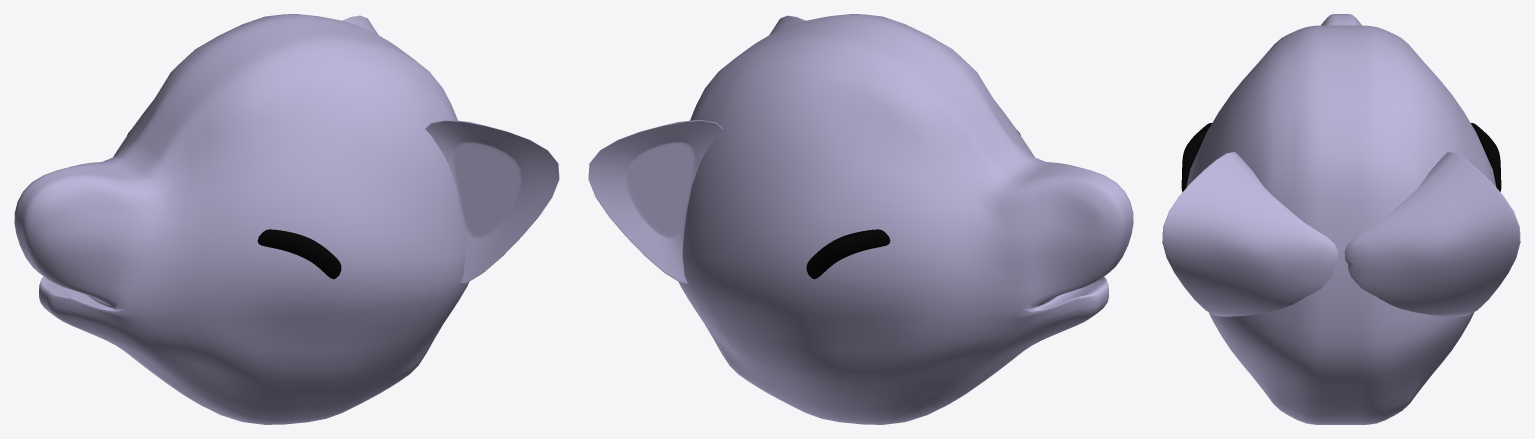
File: wolface-model.glb
The picture shows the model from 3 angles, left to right: view 1: azimuth 30°, elevation 25°; view 2: azimuth 150°, elevation 25°; view 3: azimuth 270°, elevation 25°; orthographic projection. The views are drawn at different scales.
Visible parts, largest first — view 1: Cube.006, Cube.007, Plan.006; view 2: Cube.006, Cube.007, Plan.006; view 3: Cube.006, Cube.007, Plan.006.
Part boxes in pixels (bbox=[...]): Cube.006: bbox=[14, 14, 468, 424]; Cube.007: bbox=[342, 15, 559, 284]; Plan.006: bbox=[127, 130, 341, 279]; Cube.006: bbox=[679, 14, 1133, 424]; Cube.007: bbox=[588, 15, 805, 284]; Plan.006: bbox=[806, 130, 1020, 279]; Cube.006: bbox=[1186, 14, 1496, 424]; Cube.007: bbox=[1162, 151, 1520, 316]; Plan.006: bbox=[1181, 123, 1501, 191].
Bounding box in the file's own units: 0.9734 × 0.7838 × 0.7066.
